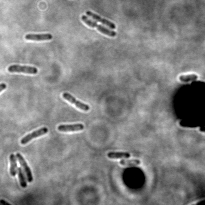microcolony: (79, 8, 118, 39), (7, 150, 33, 188)
rod: (58, 90, 90, 112), (18, 124, 48, 146), (6, 62, 38, 76), (55, 120, 85, 134), (23, 30, 53, 42), (104, 149, 132, 160), (176, 70, 199, 83), (117, 157, 142, 166)
